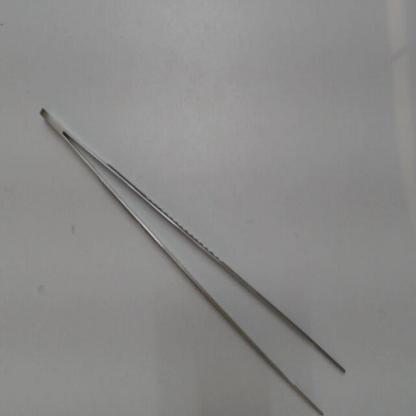DeBakey Dissector: (30, 100, 357, 413)
